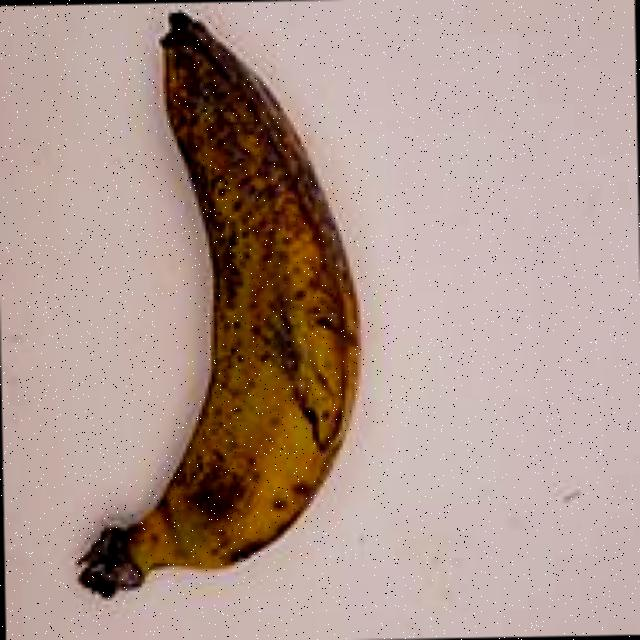Overripe: (24, 0, 368, 615)
